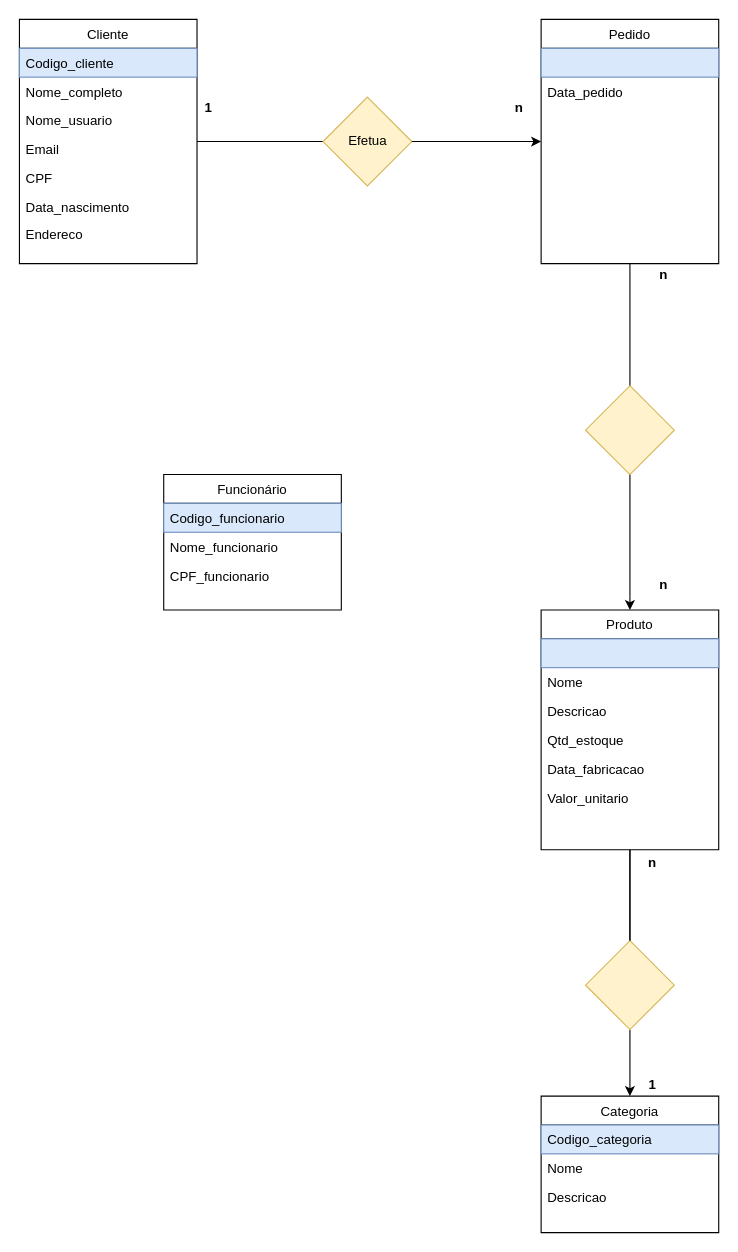
Image size: 738x1252. Some labels were removed from this diagram. The shapes that lost their labels are listed below. From the top down, each one's centre as x and y in pixels, then its label:
At (629,62): "Codigo_pedido".
At (629,430): "Contem".
At (629,653): "Codigo_produto".
At (629,985): "Pertence".
